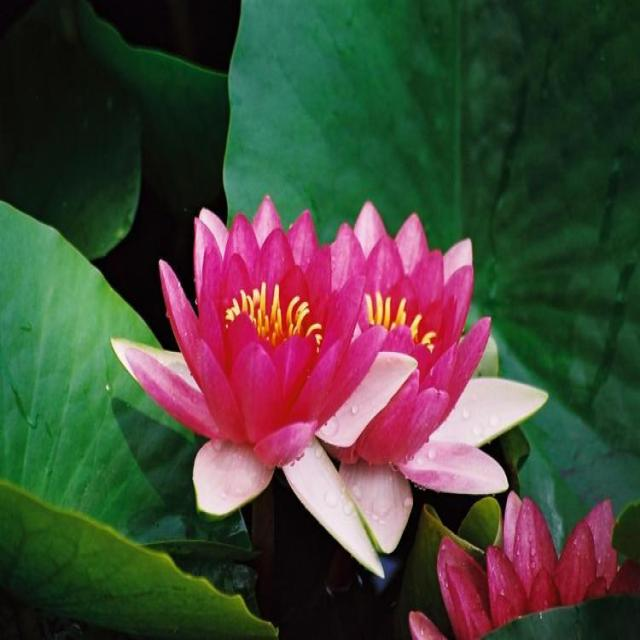water-lily: (137, 154, 388, 515), (322, 179, 558, 532)
